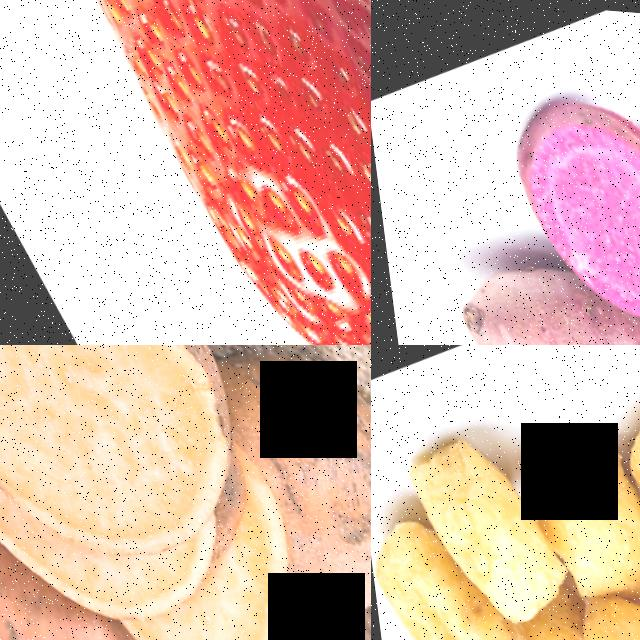strawberry: (0, 0, 371, 345)
sweet potato: (0, 345, 262, 607), (200, 345, 371, 619), (486, 69, 640, 345), (422, 219, 640, 345), (0, 491, 104, 640)
tofu: (389, 418, 577, 637), (495, 407, 640, 607), (371, 497, 554, 640), (597, 377, 640, 571)
